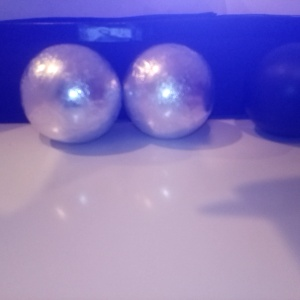alive_ball: (1, 29, 50, 113), (85, 20, 120, 59)
dead_ball: (47, 21, 85, 59)
